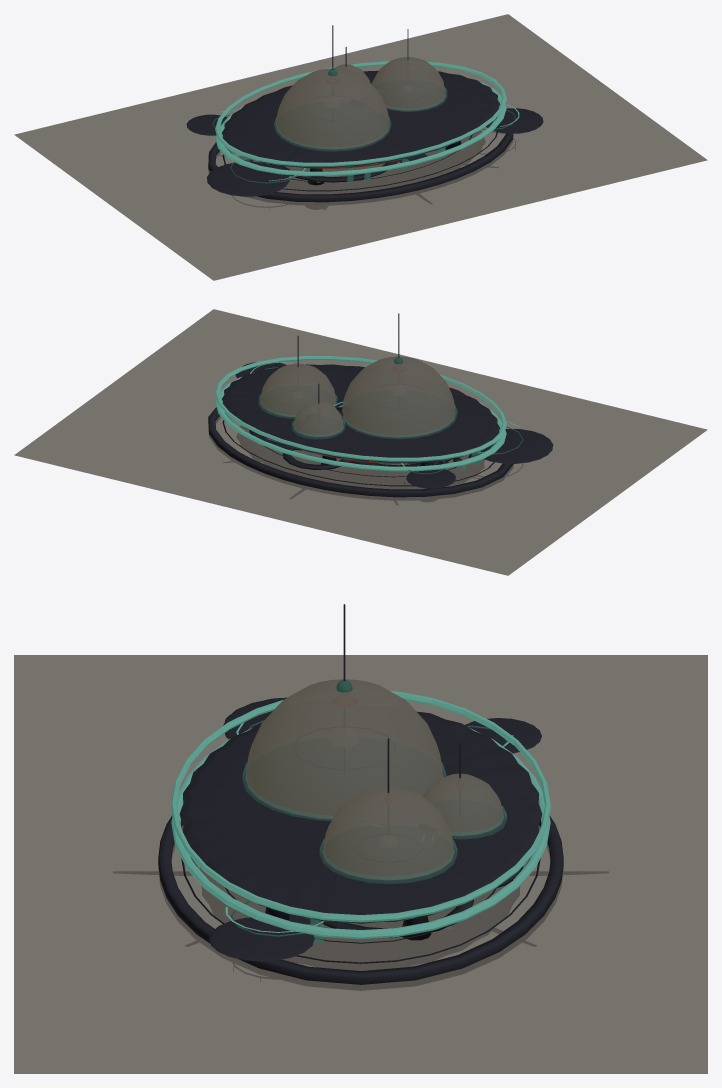
The model's file is yoga-ext-draft-s10-fix1.glb.
3 views of the same model, one above another, from view 1: azimuth 30°, elevation 25°; view 2: azimuth 150°, elevation 25°; view 3: azimuth 270°, elevation 25° (orthographic). The views are drawn at different scales.
Visible parts, largest first — view 1: reflecting_lake, main_platform, dome_large, dome_medium, platform_rim_top, platform_lip, garden_platform_01, platform_rim, garden_platform_02, dome_collar_large, garden_platform_03, dome_skirt_large; view 2: reflecting_lake, main_platform, dome_large, platform_lip, dome_medium, platform_rim_top, platform_rim, garden_platform_01, dome_small, garden_platform_03, dome_collar_large; view 3: reflecting_lake, main_platform, dome_large, dome_medium, platform_lip, platform_rim_top, platform_rim, dome_small, garden_platform_02, garden_platform_03, dome_collar_medium, trim_platform_main (+2 smaller).
Boxes of the visible parts, box(x1,y1,x2,y2) form: reflecting_lake: box(14, 14, 707, 280); main_platform: box(221, 70, 500, 167); dome_large: box(276, 68, 389, 149); dome_medium: box(371, 57, 445, 110); platform_rim_top: box(215, 61, 506, 166); platform_lip: box(208, 107, 513, 202); garden_platform_01: box(207, 161, 289, 196); platform_rim: box(215, 77, 506, 176); garden_platform_02: box(486, 108, 543, 133); dome_collar_large: box(274, 116, 391, 151); garden_platform_03: box(186, 114, 227, 135); dome_skirt_large: box(270, 160, 398, 182); reflecting_lake: box(14, 309, 707, 575); main_platform: box(221, 364, 500, 462); dome_large: box(342, 356, 455, 437); platform_lip: box(208, 402, 513, 497); dome_medium: box(260, 363, 335, 416); platform_rim_top: box(215, 356, 506, 461); platform_rim: box(215, 372, 506, 471); garden_platform_01: box(475, 429, 553, 463); dome_small: box(293, 401, 343, 436); garden_platform_03: box(406, 469, 455, 488); dome_collar_large: box(341, 404, 457, 438); reflecting_lake: box(14, 655, 707, 1073); main_platform: box(179, 711, 542, 923); dome_large: box(245, 679, 443, 819); dome_medium: box(322, 787, 454, 880); platform_lip: box(158, 815, 563, 984); platform_rim_top: box(171, 691, 550, 922); platform_rim: box(171, 728, 550, 938); dome_small: box(422, 773, 503, 835); garden_platform_02: box(209, 917, 314, 961); garden_platform_03: box(465, 718, 541, 753); dome_collar_medium: box(319, 839, 457, 883); trim_platform_main: box(181, 858, 540, 963).
Size of the model in its own units: 18 by 5.47 by 12.6.
